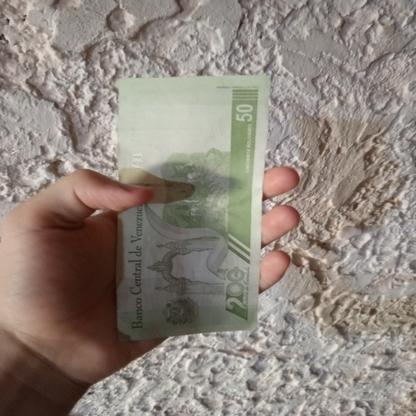fifty-back-vef: (115, 73, 270, 343)
